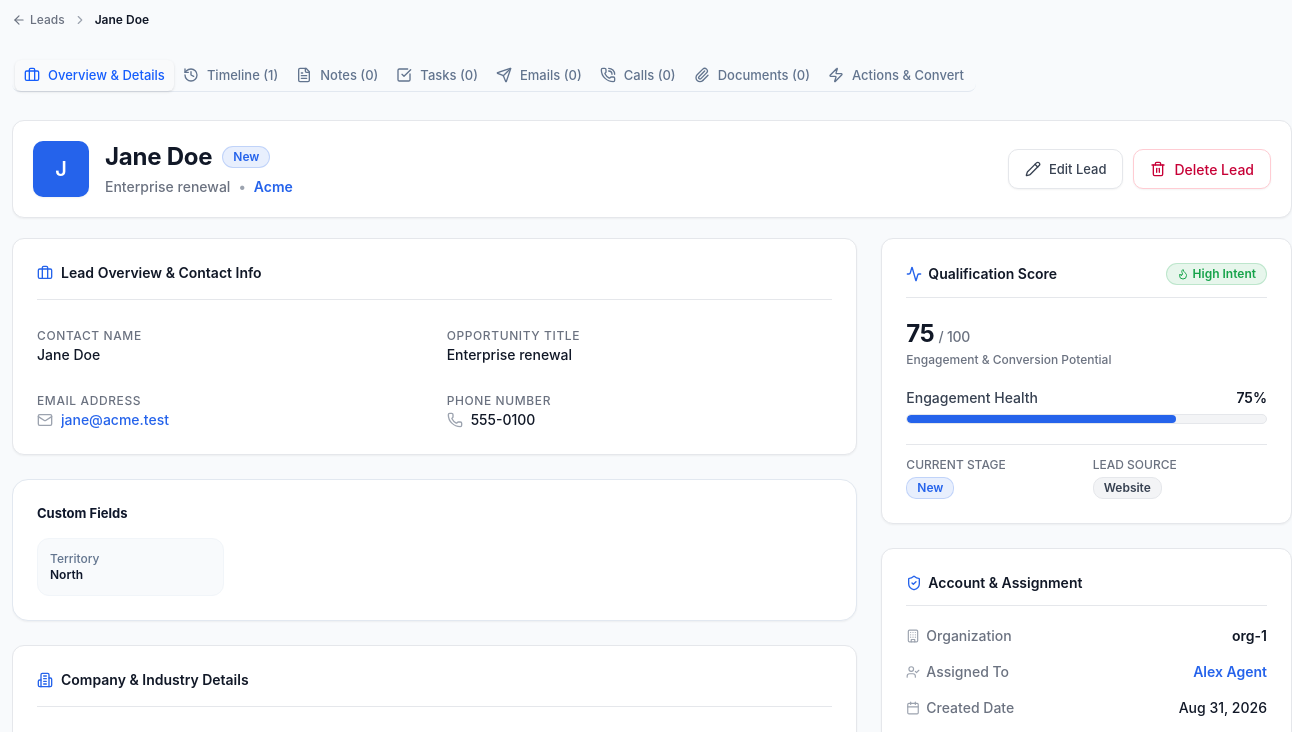
Test case: LeadDetailPage lifecycle › renders the unified activity timeline
Click the tab "Timeline (1)": (231, 75) [174,60,287,90]
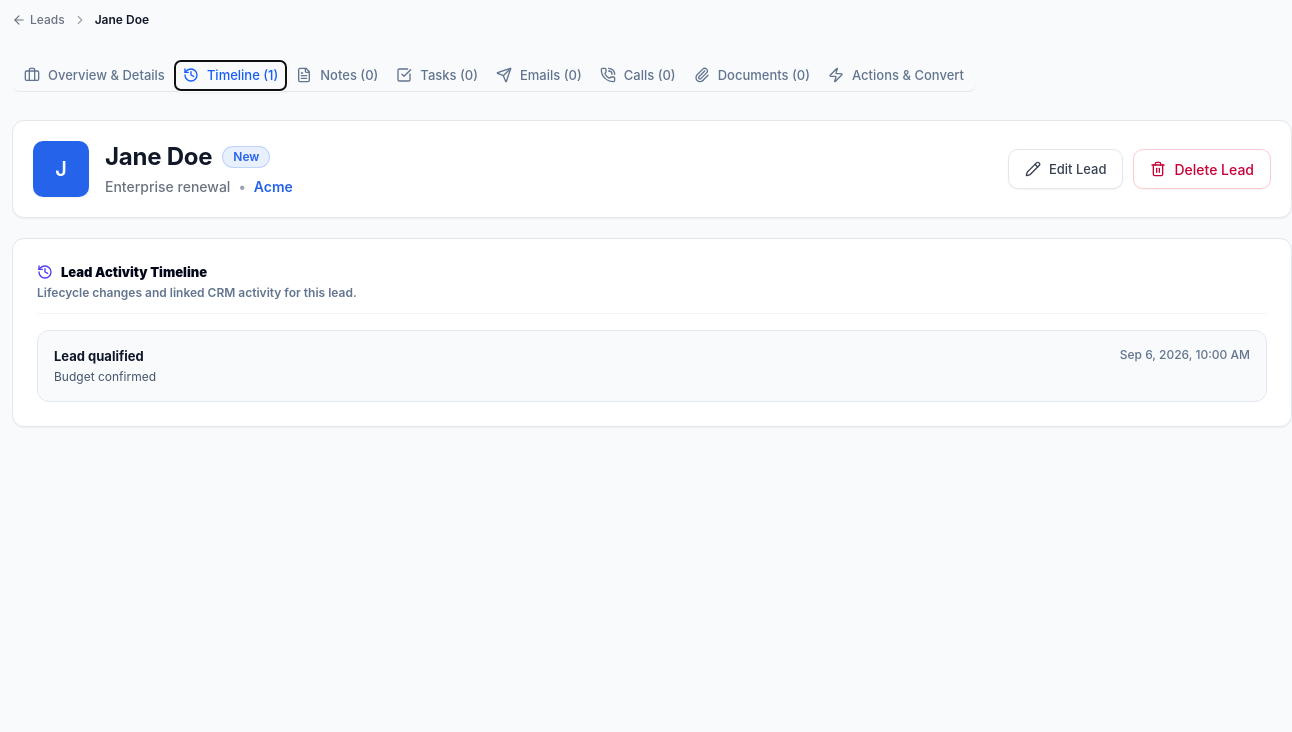
Expected: the text "Budget confirmed" is shown, [54,369,156,385]
